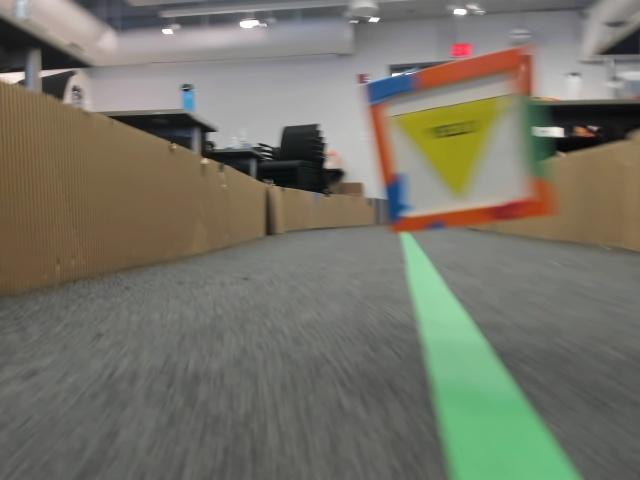Yield: (385, 116, 509, 213)
